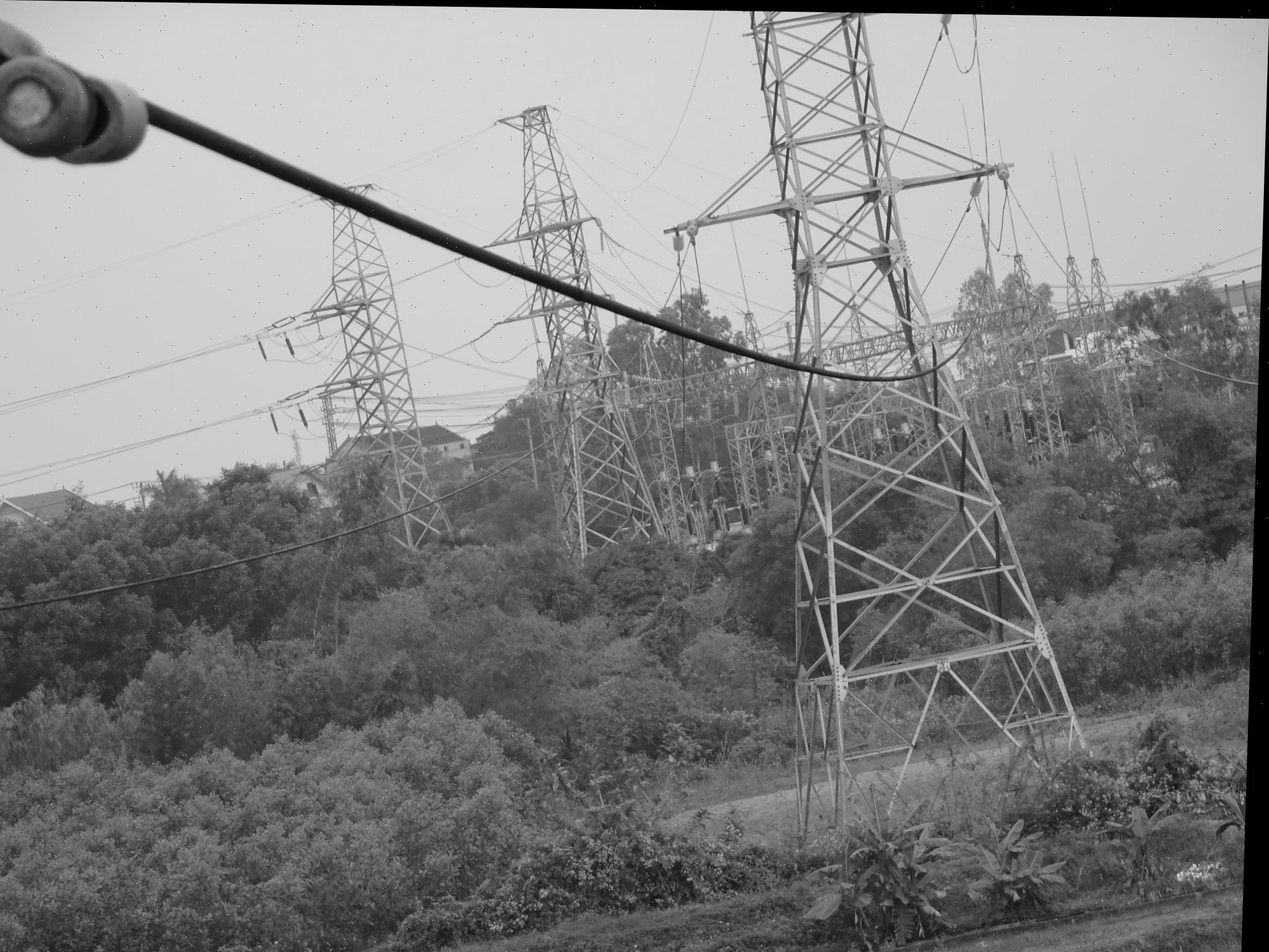tower: (641, 10, 1125, 784), (467, 102, 696, 559), (260, 178, 495, 616)
